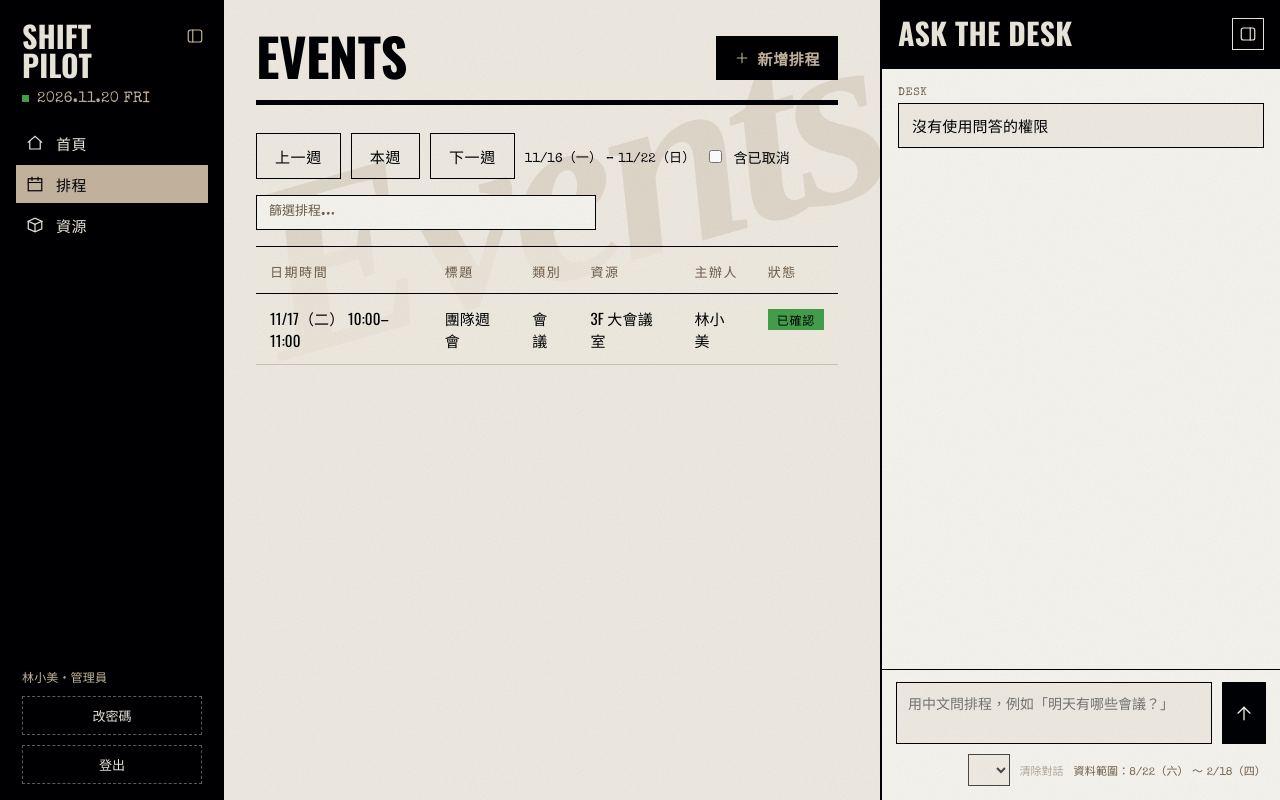
testCreateBookingDefaultsOrganizerToSelf
The image size is (1280, 800).
Later steps or results of the test are not shown.
Click the button "新增排程" at (777, 58), box [716,36,838,80]
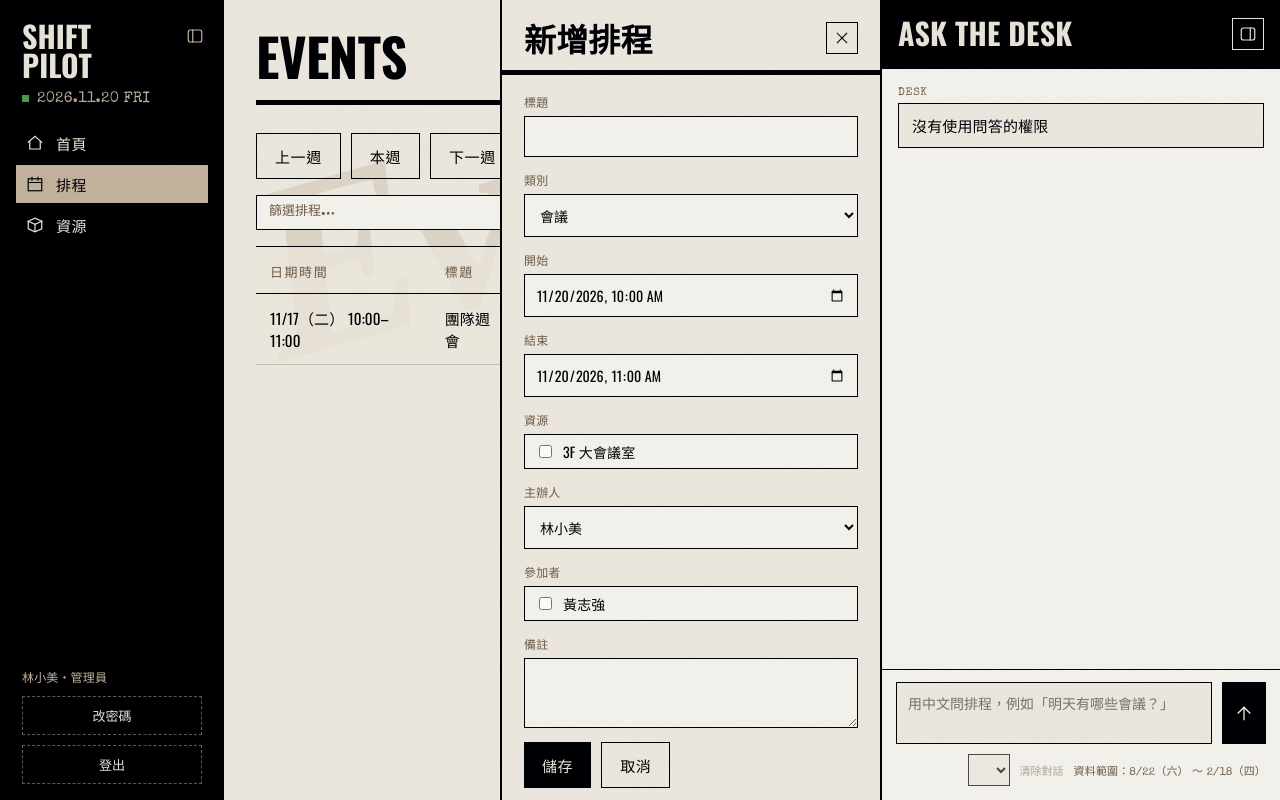
Type "新會議" into the field labelled "標題" at (691, 136), box [524,116,858,157]
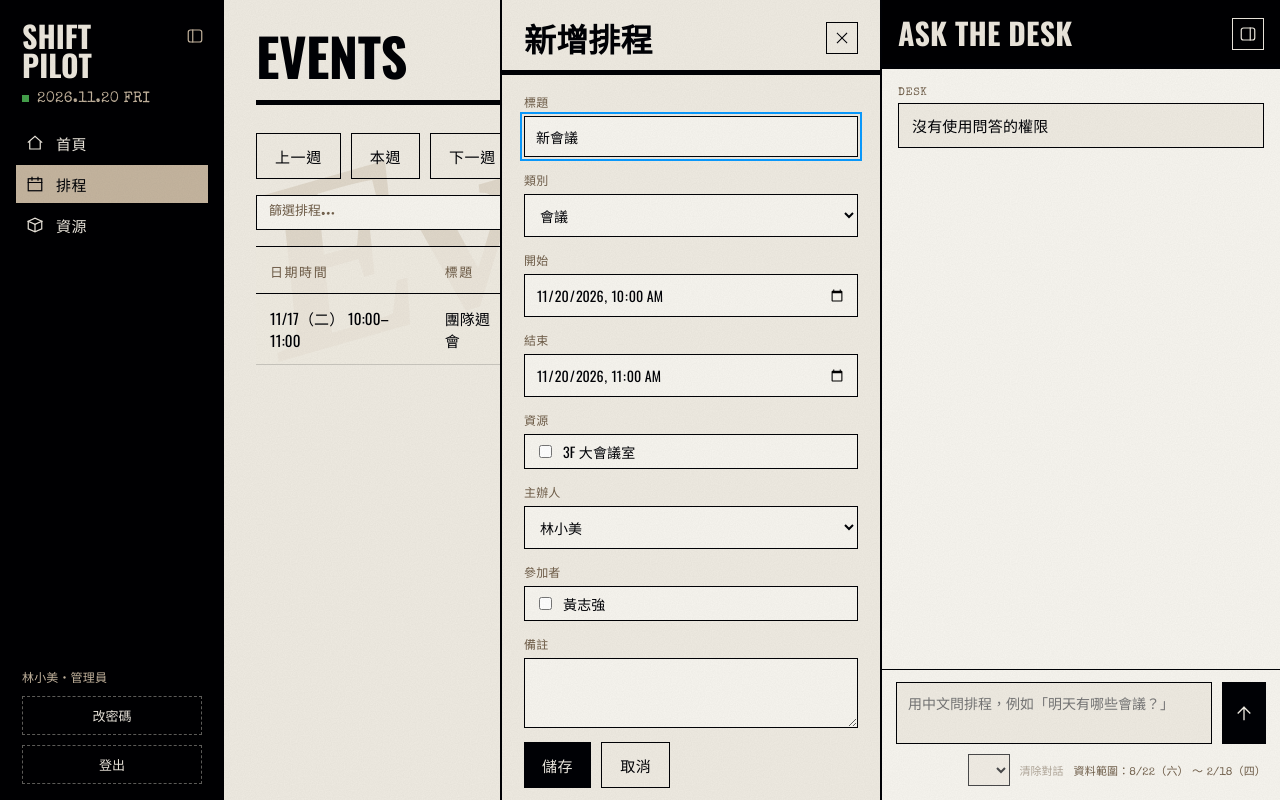
Select "會議" in the dropdown labelled "類別" at (691, 216), box [524,194,858,237]
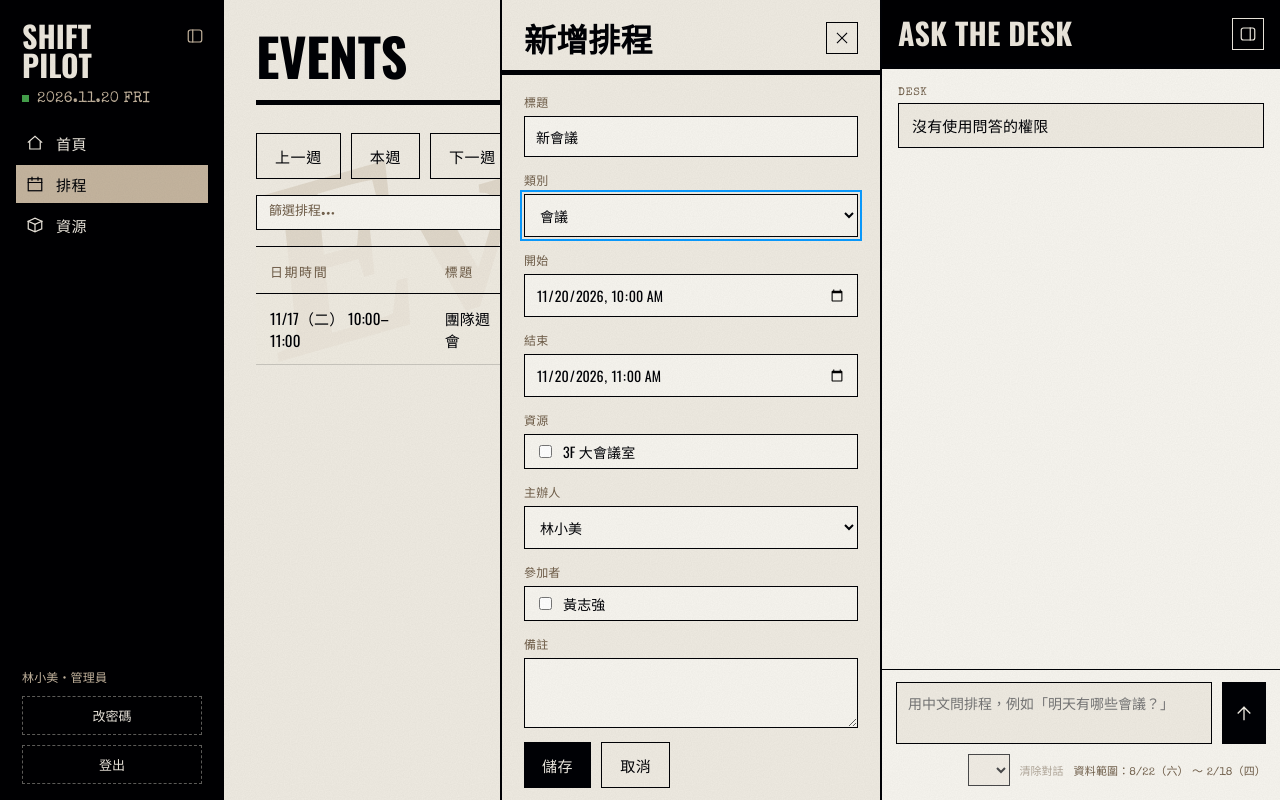
Now the dropdown labelled "主辦人" shows "林小美", box [524,506,858,549]
